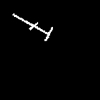double_crochet: (13, 14, 52, 40)
